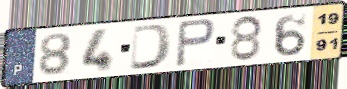4: (79, 27, 118, 74)
6: (273, 12, 308, 57)
8: (228, 13, 266, 63), (36, 32, 75, 77)
D: (127, 22, 174, 72)
P: (173, 17, 217, 68)
